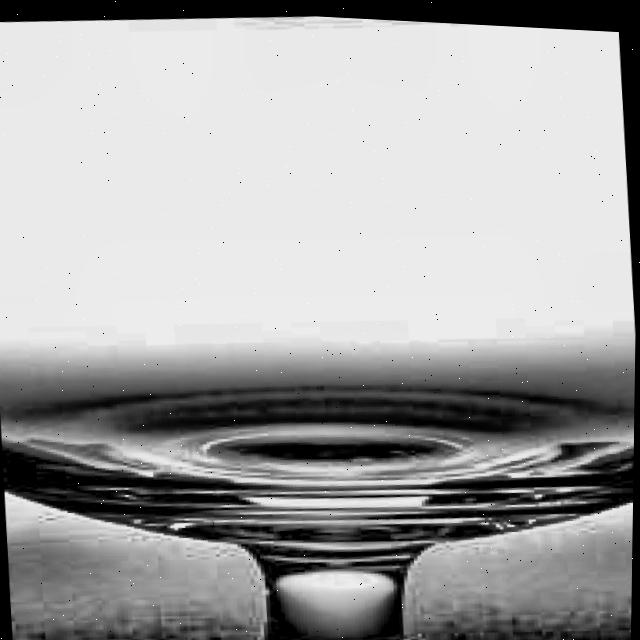glass: (0, 13, 636, 640)
